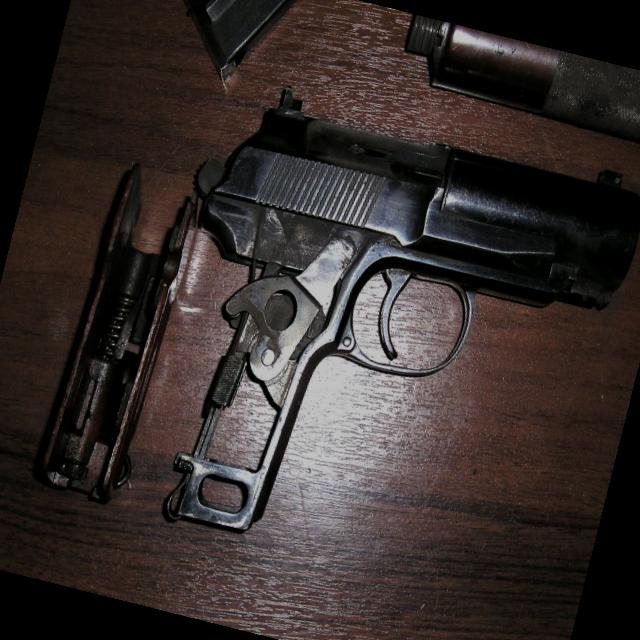handgun: (126, 74, 639, 609)
